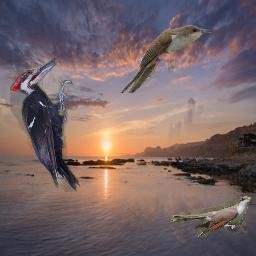Cuckoo: (120, 25, 211, 93), (171, 196, 251, 237)
Woodpecker: (10, 58, 80, 192)
